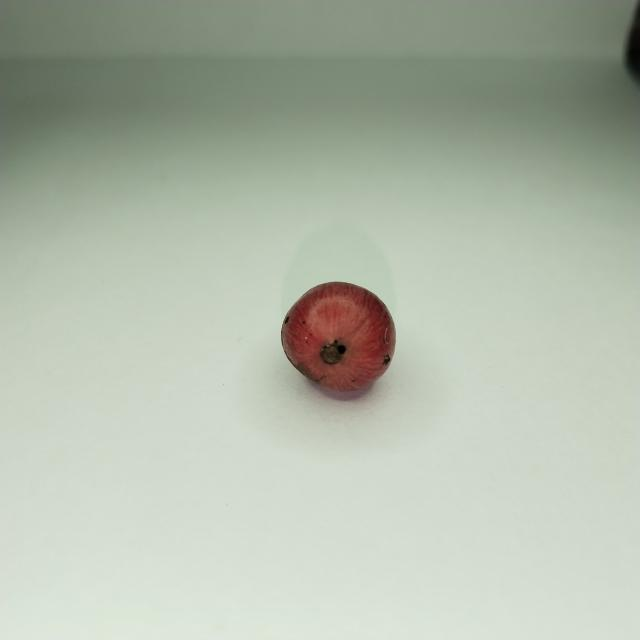Infectado: (281, 282, 395, 396)
